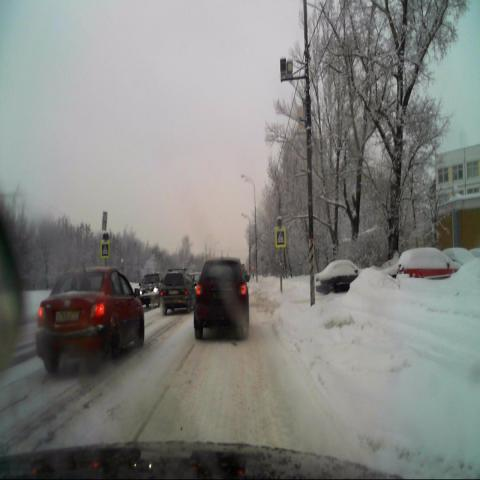5_19_1: (275, 226, 286, 247), (99, 240, 110, 258)
